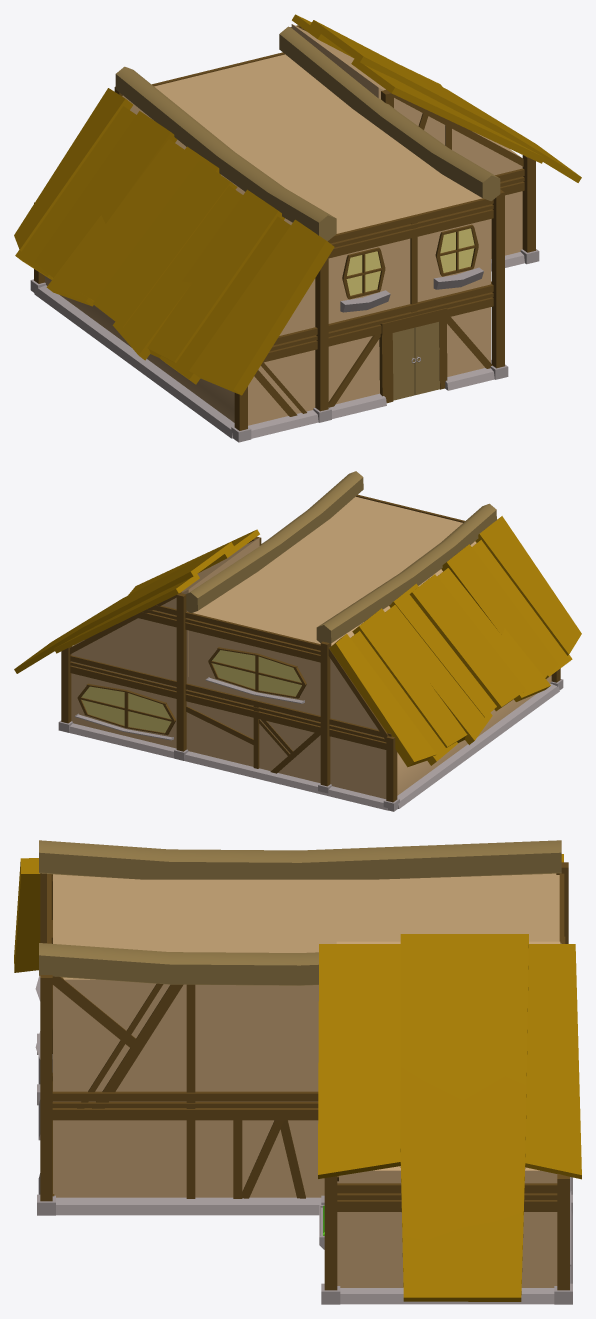
File: mesh_Flat_house_2_Without.fbx
3 views of the same model, one above another, from view 1: azimuth 30°, elevation 25°; view 2: azimuth 150°, elevation 25°; view 3: azimuth 270°, elevation 25° (orthographic). The views are drawn at different scales.
Visible parts, largest first — view 1: Flat_house_2_Without; view 2: Flat_house_2_Without; view 3: Flat_house_2_Without.
Boxes of the visible parts, x1,y1,x2,y2 form: Flat_house_2_Without: [14, 14, 581, 442]; Flat_house_2_Without: [14, 471, 581, 811]; Flat_house_2_Without: [14, 840, 581, 1304].
Bounding box in the file's own units: 1897 × 748 × 1374.
Materials: 1 (1 with a texture image).
